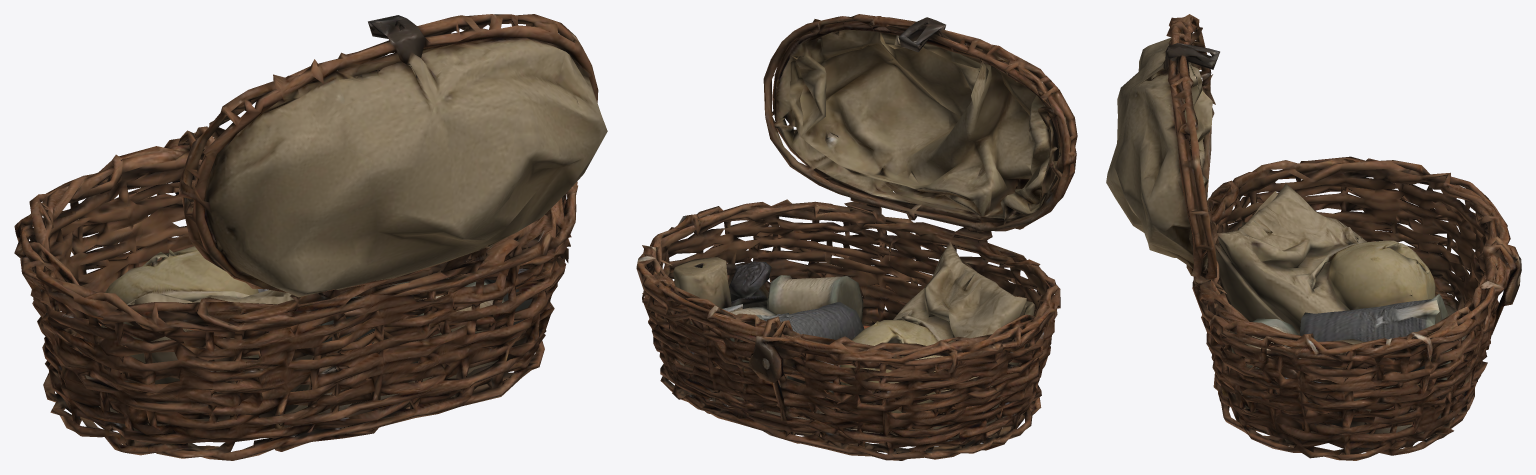
Rendered from theme-sewing-basket-v05.glb.
The picture shows the model from 3 angles, left to right: view 1: azimuth 30°, elevation 25°; view 2: azimuth 150°, elevation 25°; view 3: azimuth 270°, elevation 25°; orthographic projection. The views are drawn at different scales.
Visible parts, largest first — view 1: tripo_node_116657db-1fdc-4037-a762-ca1a1e7fc86f; view 2: tripo_node_116657db-1fdc-4037-a762-ca1a1e7fc86f; view 3: tripo_node_116657db-1fdc-4037-a762-ca1a1e7fc86f.
Part boxes in pixels (x1,y1,x2,y2): tripo_node_116657db-1fdc-4037-a762-ca1a1e7fc86f: [14, 14, 607, 460]; tripo_node_116657db-1fdc-4037-a762-ca1a1e7fc86f: [636, 14, 1077, 460]; tripo_node_116657db-1fdc-4037-a762-ca1a1e7fc86f: [1106, 14, 1521, 460].
Size of the model in its own units: 0.351 by 0.28 by 0.3177.
1 material, 1 textured.
